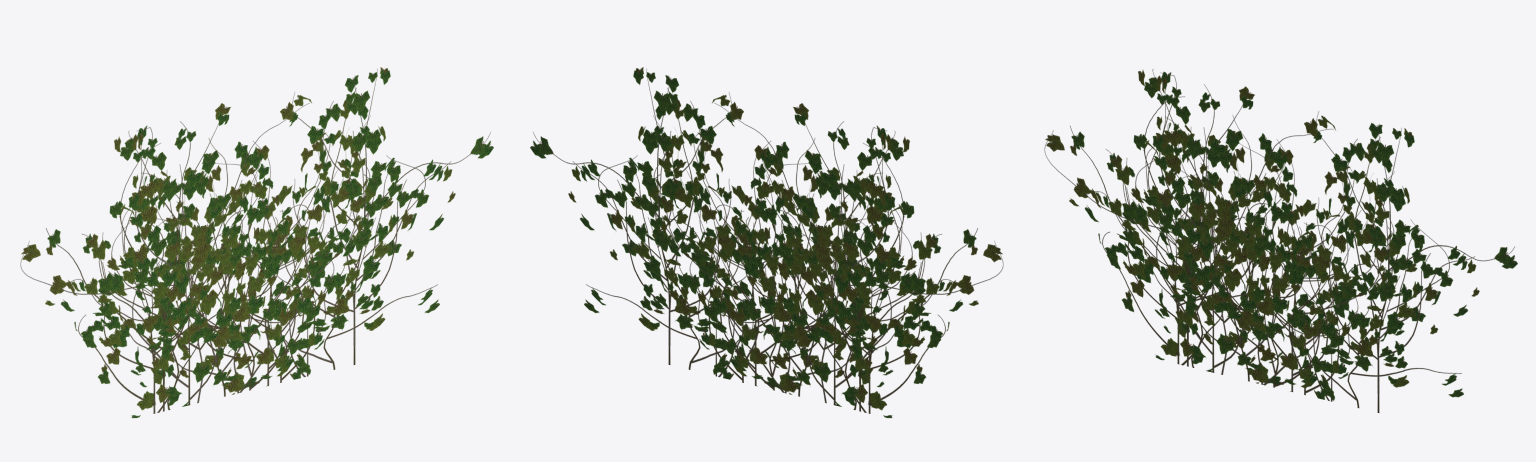
File: ivy_plane.glb
3 views of the same model, side by side, from view 1: azimuth 30°, elevation 25°; view 2: azimuth 150°, elevation 25°; view 3: azimuth 330°, elevation 25° (orthographic).
Parts seen in each view (by area): view 1: Ivy_Plane_0; view 2: Ivy_Plane_0; view 3: Ivy_Plane_0.
Boxes of the visible parts, box(x1,y1,x2,y2) form: Ivy_Plane_0: box(20, 67, 493, 417); Ivy_Plane_0: box(530, 67, 1003, 417); Ivy_Plane_0: box(1044, 69, 1517, 412).
Bounding box in the file's own units: 2 × 1.25 × 0.
Materials: 1 (1 with a texture image).
